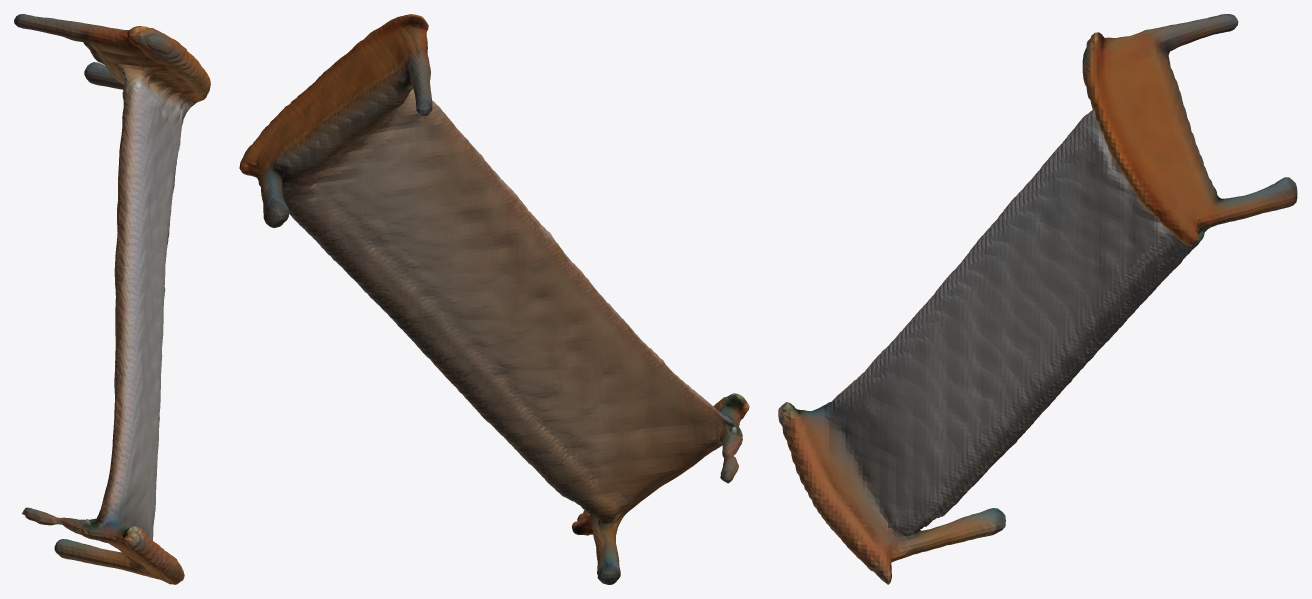
3 views of the same model, side by side, from view 1: azimuth 30°, elevation 25°; view 2: azimuth 150°, elevation 25°; view 3: azimuth 270°, elevation 25° (orthographic). The views are drawn at different scales.
Size of the model in its own units: 0.6575 by 1.03 by 0.8394.
